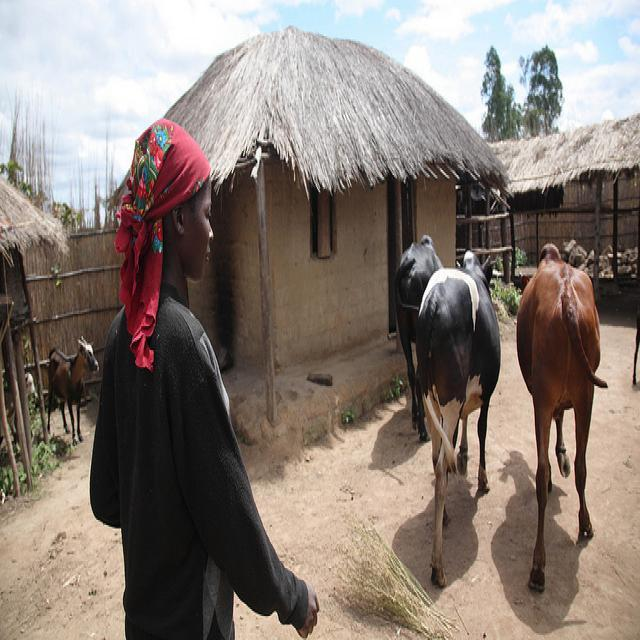cow: (512, 242, 605, 588), (412, 245, 499, 587), (392, 227, 442, 443)
